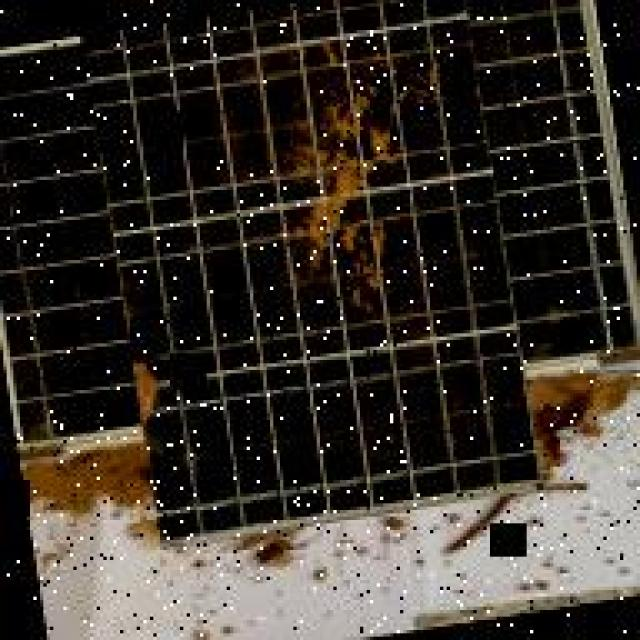dust-solar-panel: (0, 0, 640, 533)
